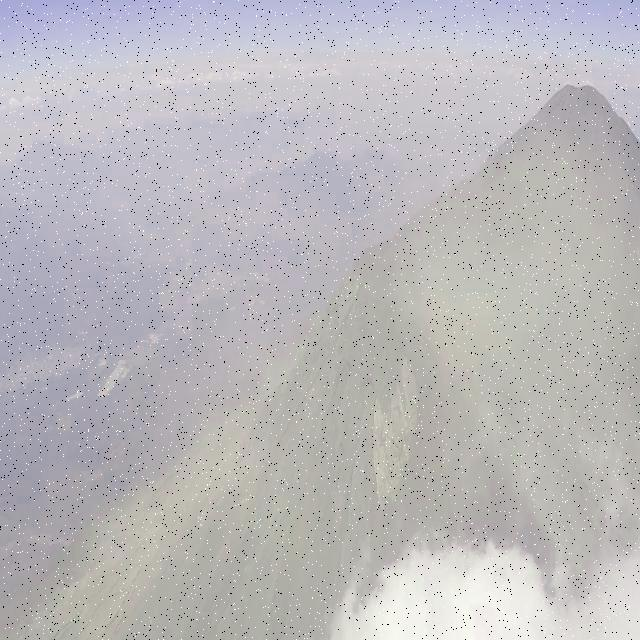Summit: (200, 220, 552, 522)
